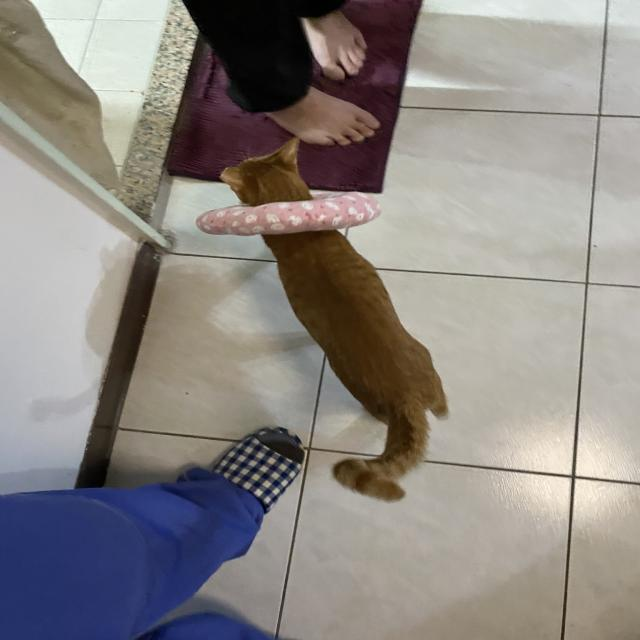cat3: (217, 138, 452, 504)
